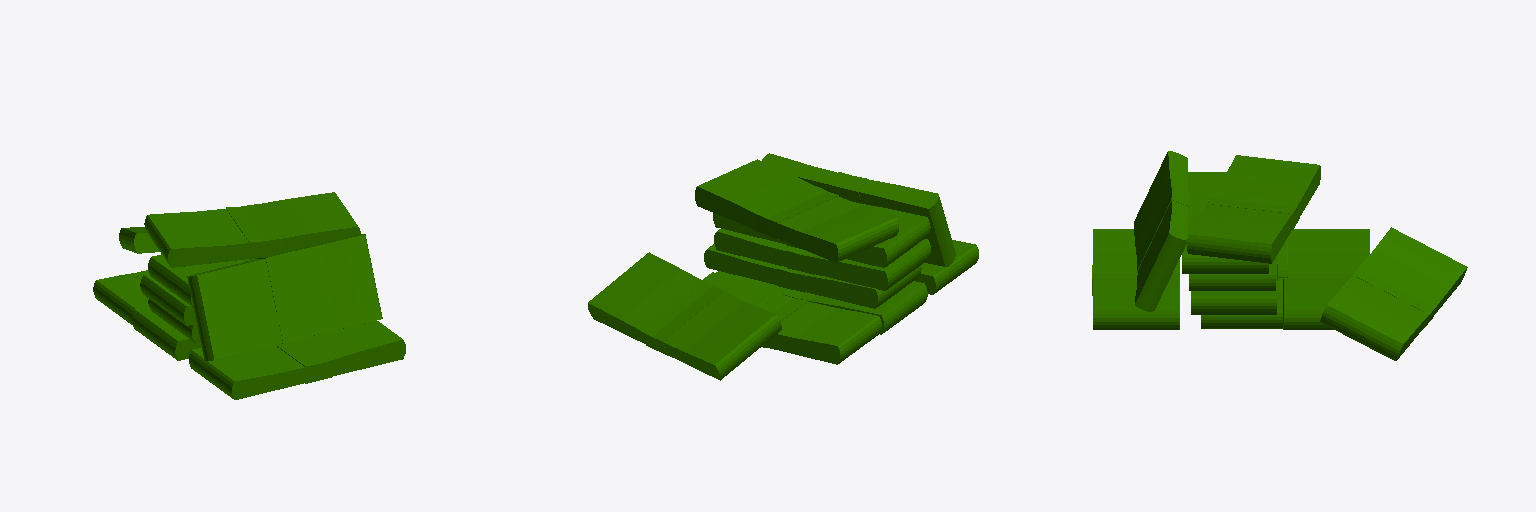
The model's file is billete.obj.
3 views of the same model, side by side, from view 1: azimuth 30°, elevation 25°; view 2: azimuth 150°, elevation 25°; view 3: azimuth 270°, elevation 25° (orthographic).
Visible parts, largest first — view 1: Box01_3_2_Untitled.005, Box01_2_3_Untitled.003, Box01_1_2_Untitled.001, Box01_0_2_Untitled.008, Box01_0_Untitled.002, Box01_3_Untitled.006, Box01_2_Untitled, Box01_1_3_Untitled.004, Box01_1_Untitled.007; view 2: Box01_1_3_Untitled.004, Box01_2_3_Untitled.003, Box01_0_2_Untitled.008, Box01_3_2_Untitled.005, Box01_2_Untitled, Box01_1_Untitled.007, Box01_3_Untitled.006, Box01_0_Untitled.002, Box01_1_2_Untitled.001; view 3: Box01_1_3_Untitled.004, Box01_2_3_Untitled.003, Box01_0_2_Untitled.008, Box01_3_2_Untitled.005, Box01_1_2_Untitled.001, Box01_3_Untitled.006, Box01_1_Untitled.007, Box01_0_Untitled.002, Box01_2_Untitled.
Part boxes in pixels (x1,y1,x2,y2): Box01_3_2_Untitled.005: (187, 234, 382, 360); Box01_2_3_Untitled.003: (144, 192, 360, 267); Box01_1_2_Untitled.001: (189, 321, 405, 399); Box01_0_2_Untitled.008: (93, 270, 148, 324); Box01_0_Untitled.002: (132, 307, 201, 360); Box01_3_Untitled.006: (148, 254, 254, 307); Box01_2_Untitled: (140, 274, 196, 325); Box01_1_3_Untitled.004: (119, 227, 159, 253); Box01_1_Untitled.007: (148, 299, 199, 342); Box01_1_3_Untitled.004: (588, 252, 781, 380); Box01_2_3_Untitled.003: (695, 159, 898, 262); Box01_0_2_Untitled.008: (703, 272, 881, 364); Box01_3_2_Untitled.005: (762, 153, 955, 266); Box01_2_Untitled: (714, 229, 930, 290); Box01_1_Untitled.007: (704, 244, 921, 308); Box01_3_Untitled.006: (713, 202, 930, 267); Box01_0_Untitled.002: (716, 271, 927, 334); Box01_1_2_Untitled.001: (914, 240, 978, 294); Box01_1_3_Untitled.004: (1320, 227, 1467, 360); Box01_2_3_Untitled.003: (1187, 155, 1320, 263); Box01_0_2_Untitled.008: (1283, 229, 1369, 329); Box01_3_2_Untitled.005: (1134, 151, 1188, 311); Box01_1_2_Untitled.001: (1092, 229, 1179, 329); Box01_3_Untitled.006: (1182, 172, 1268, 273); Box01_1_Untitled.007: (1191, 255, 1277, 314); Box01_0_Untitled.002: (1201, 238, 1287, 328); Box01_2_Untitled: (1189, 258, 1275, 290).
Bounding box in the file's own units: 1.09 × 0.4288 × 1.48.